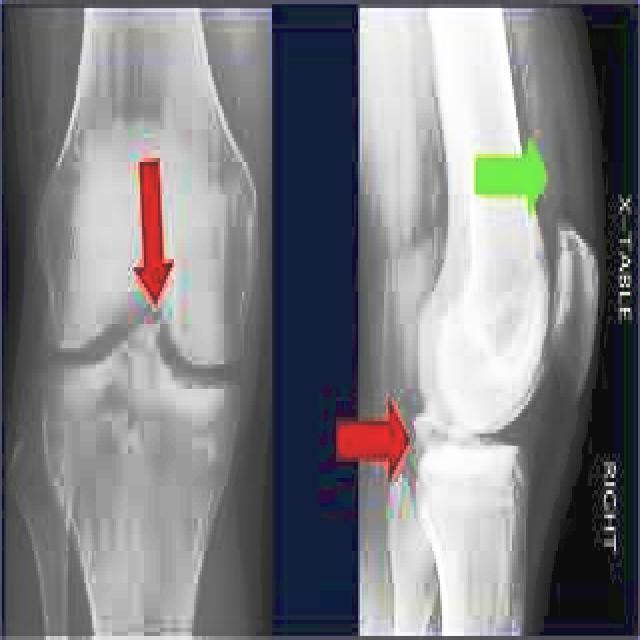Avlusion Fracture: (409, 394, 461, 456), (126, 301, 176, 355)
